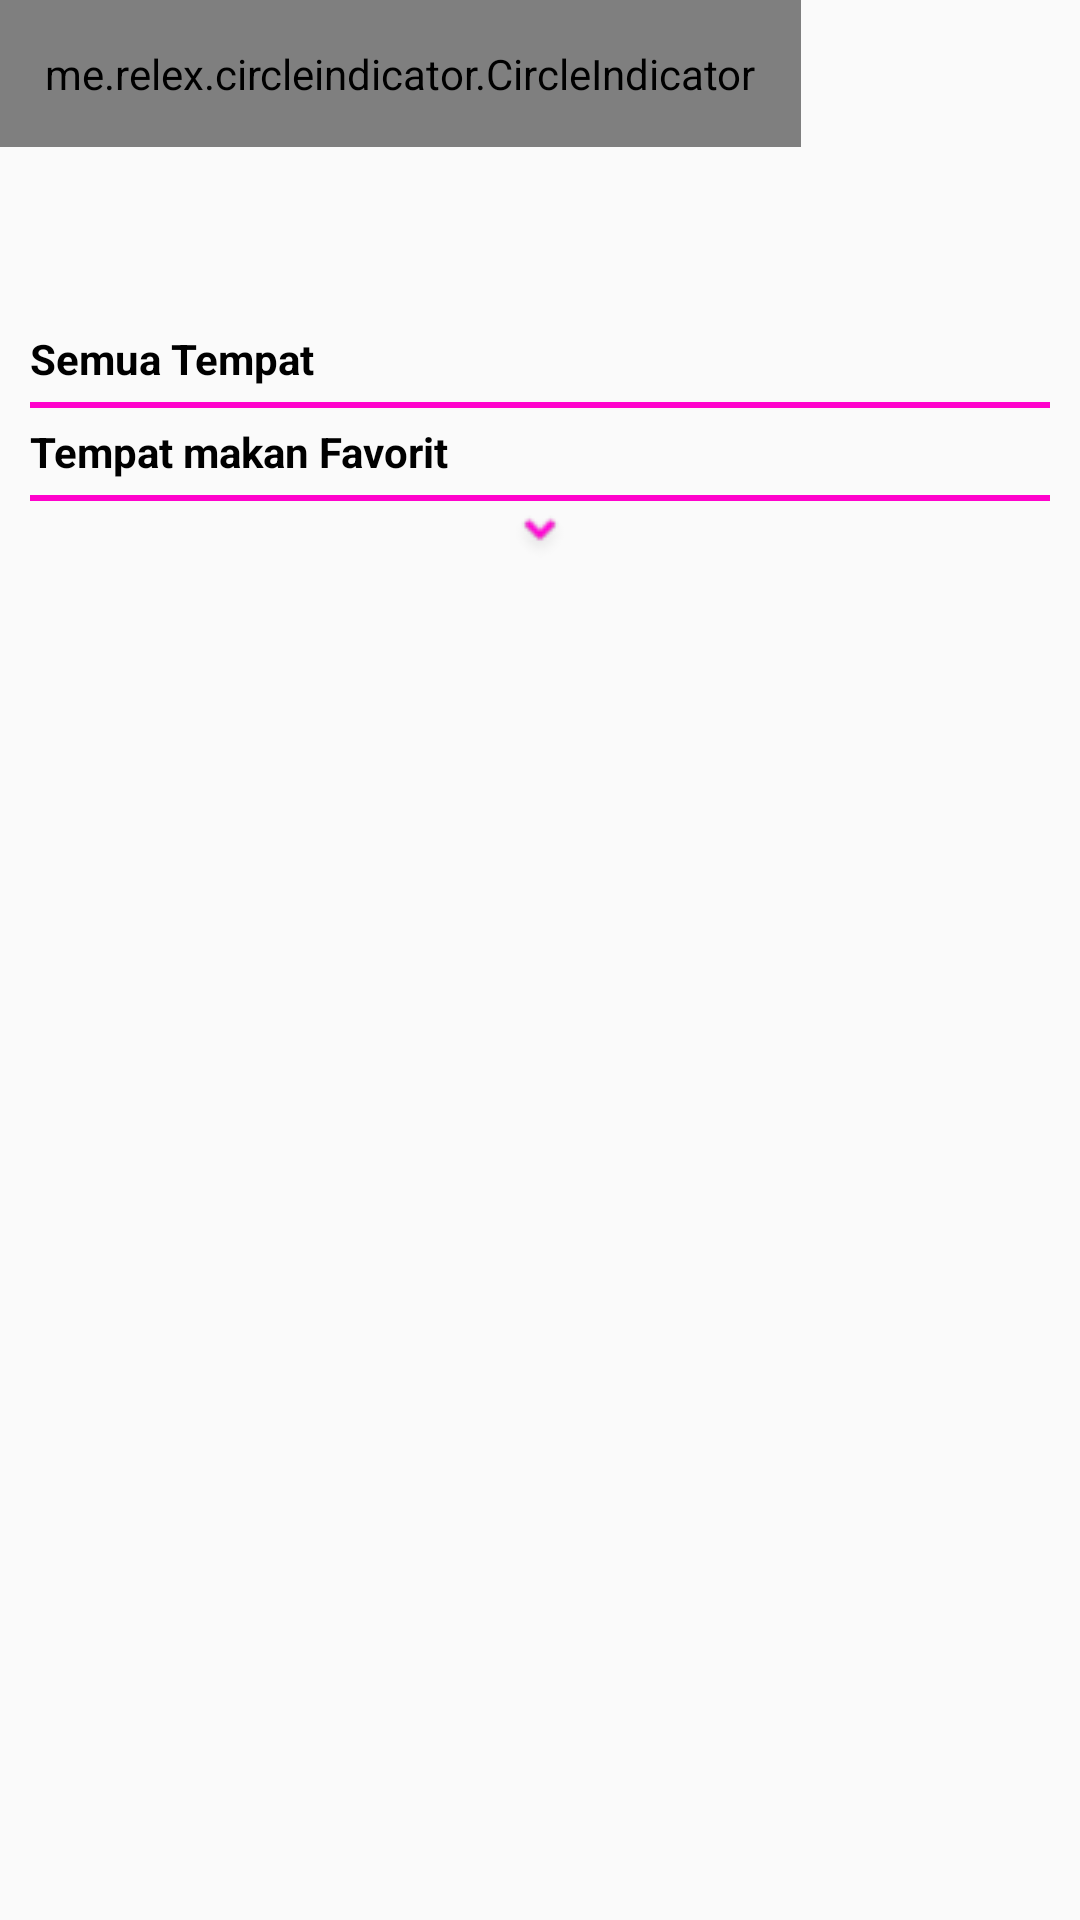

Icon bounding boxes for this 1080 x 1920 phone screenshot, format detection(x1, y1, x2, y2):
dropdown: detection(524, 518, 556, 541)
